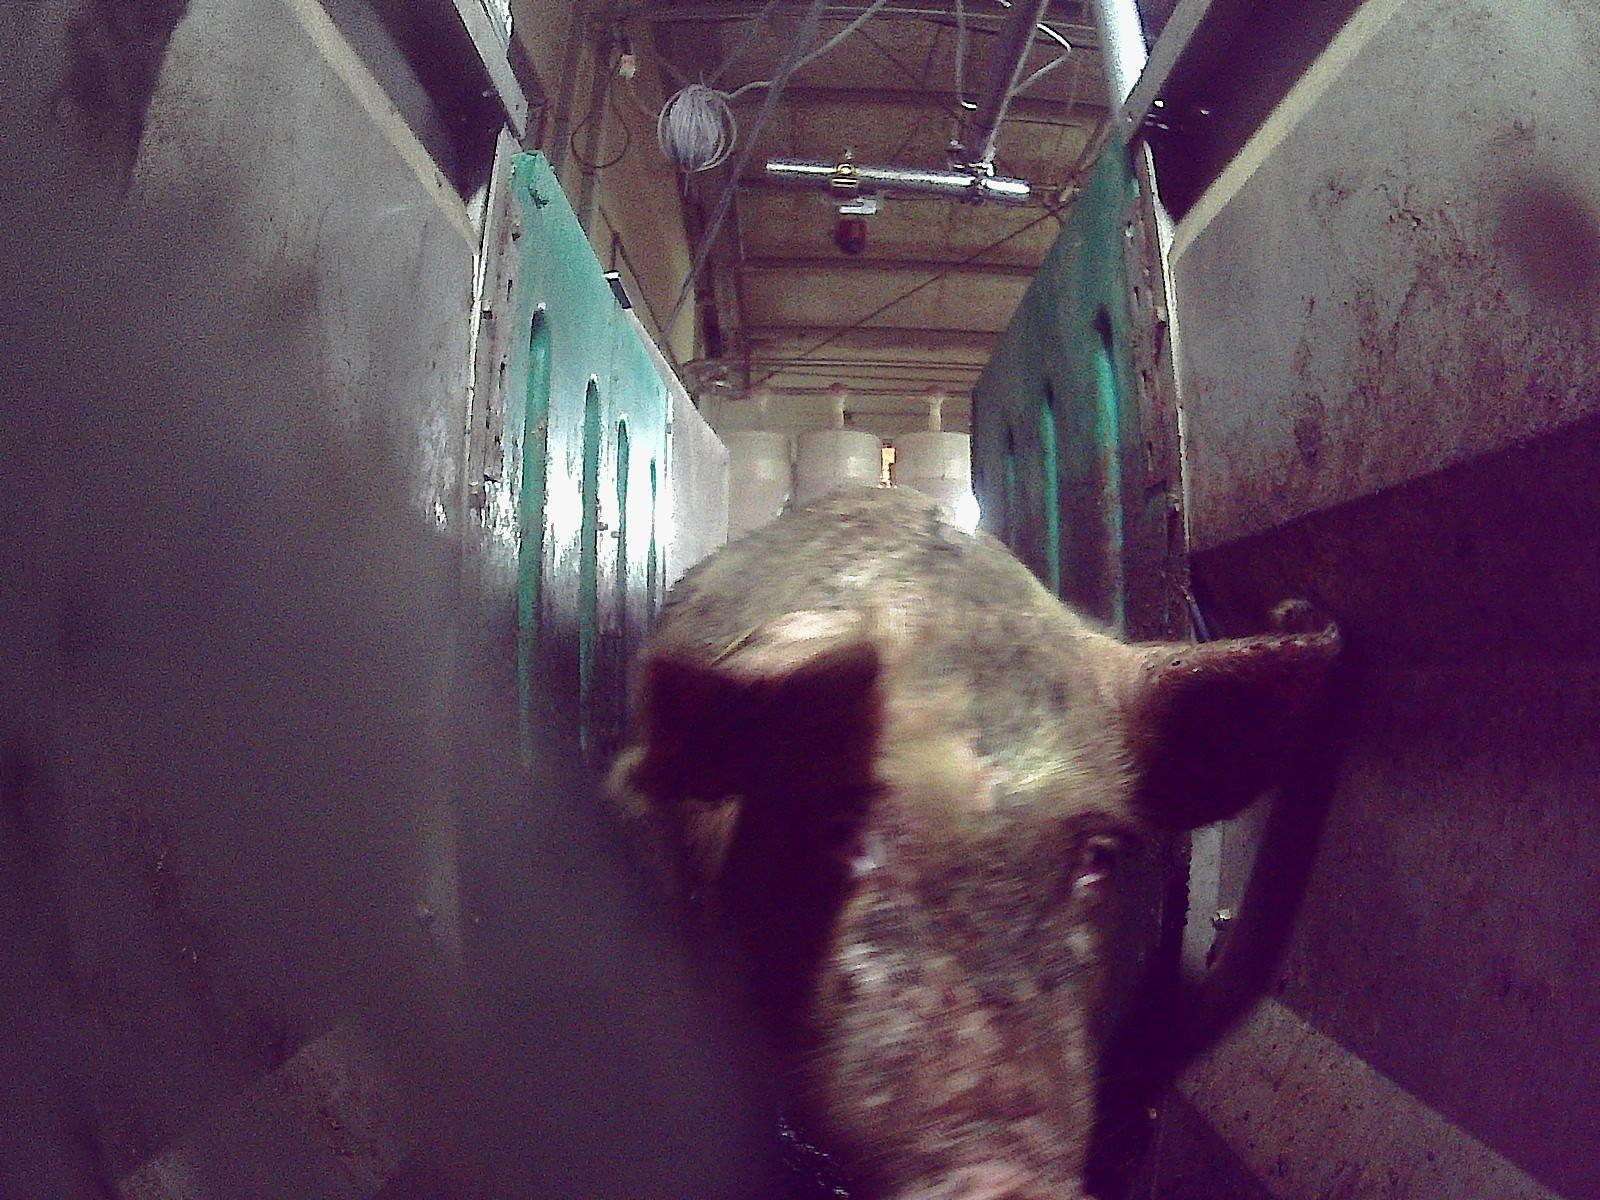Face: (706, 606, 1146, 1199)
